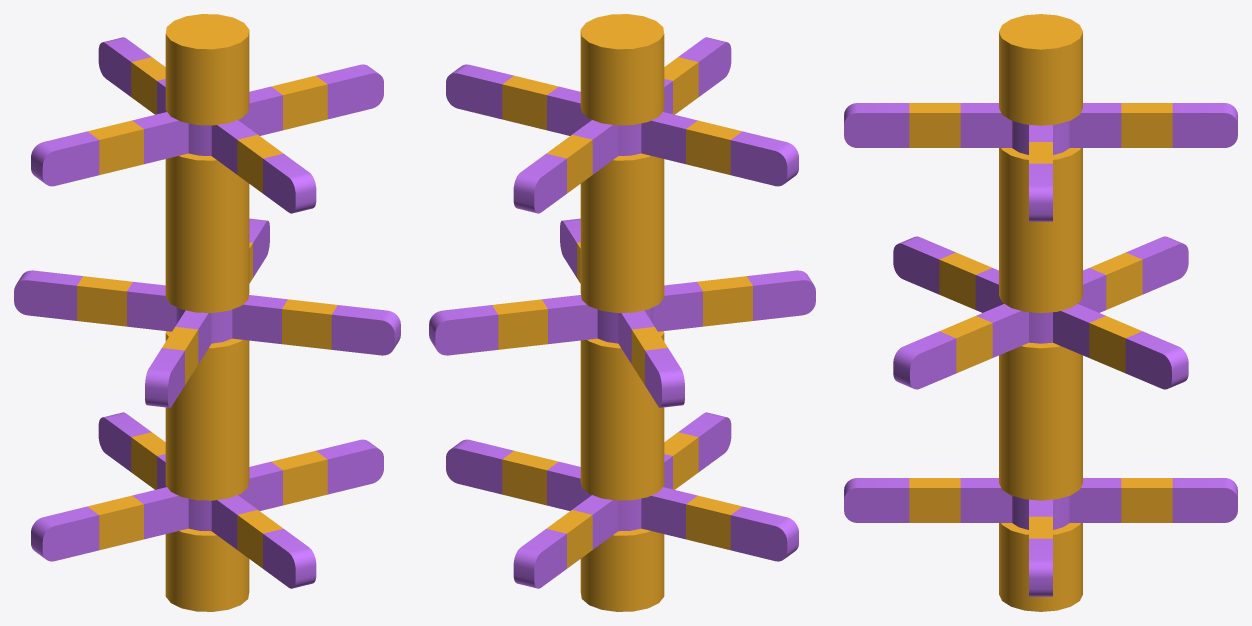
The model's file is Blades B Big.fbx.
3 views of the same model, side by side, from view 1: azimuth 30°, elevation 25°; view 2: azimuth 150°, elevation 25°; view 3: azimuth 270°, elevation 25° (orthographic).
Parts seen in each view (by area): view 1: Blades B Big.001, Blades B Big, Blades B Big.002, Blades B Big.003; view 2: Blades B Big.001, Blades B Big, Blades B Big.002, Blades B Big.003; view 3: Blades B Big.001, Blades B Big.003, Blades B Big, Blades B Big.002.
Part boxes in pixels (x1=…): Blades B Big.001: x1=165, y1=14, x2=249, y2=611; Blades B Big: x1=31, y1=412, x2=383, y2=588; Blades B Big.002: x1=31, y1=37, x2=383, y2=213; Blades B Big.003: x1=14, y1=218, x2=400, y2=407; Blades B Big.001: x1=580, y1=14, x2=664, y2=611; Blades B Big: x1=446, y1=412, x2=798, y2=588; Blades B Big.002: x1=446, y1=37, x2=798, y2=213; Blades B Big.003: x1=429, y1=218, x2=815, y2=407; Blades B Big.001: x1=999, y1=14, x2=1082, y2=611; Blades B Big.003: x1=893, y1=236, x2=1188, y2=389; Blades B Big: x1=844, y1=478, x2=1237, y2=596; Blades B Big.002: x1=844, y1=103, x2=1237, y2=221.
Bounding box in the file's own units: 200 × 315 × 200.
